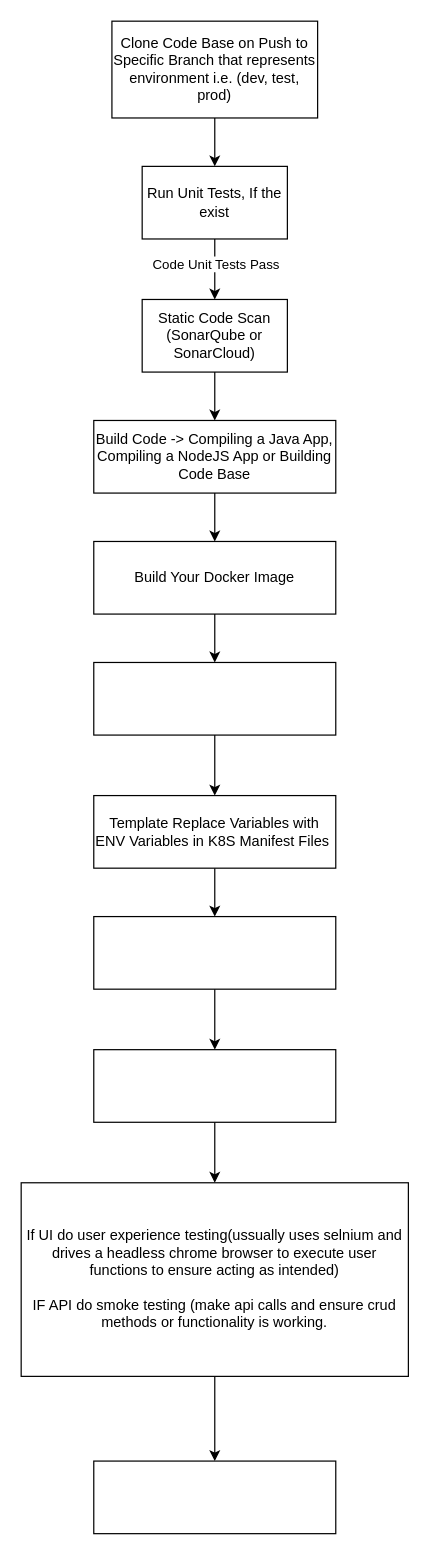
This 430x1555 diagram has some shape labels left out. Each missing label, with the centre of its shape:
"Deploy Manifest" belongs at (214,952).
"OWASP Security Scan (ZAProxy)" belongs at (214,1497).
"Scan Docker Image using Security Vulnerability Scanning tool like (Anchore)" belongs at (214,698).
"Validate Pods Start" belongs at (214,1085).
